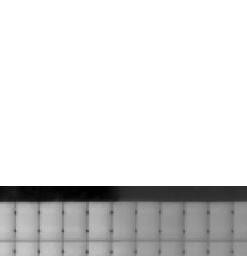solar: (13, 200, 42, 242), (36, 200, 65, 242), (60, 200, 89, 242), (84, 200, 113, 242), (109, 200, 138, 242), (133, 200, 162, 242), (157, 200, 186, 242), (181, 200, 210, 242), (206, 200, 235, 242)
